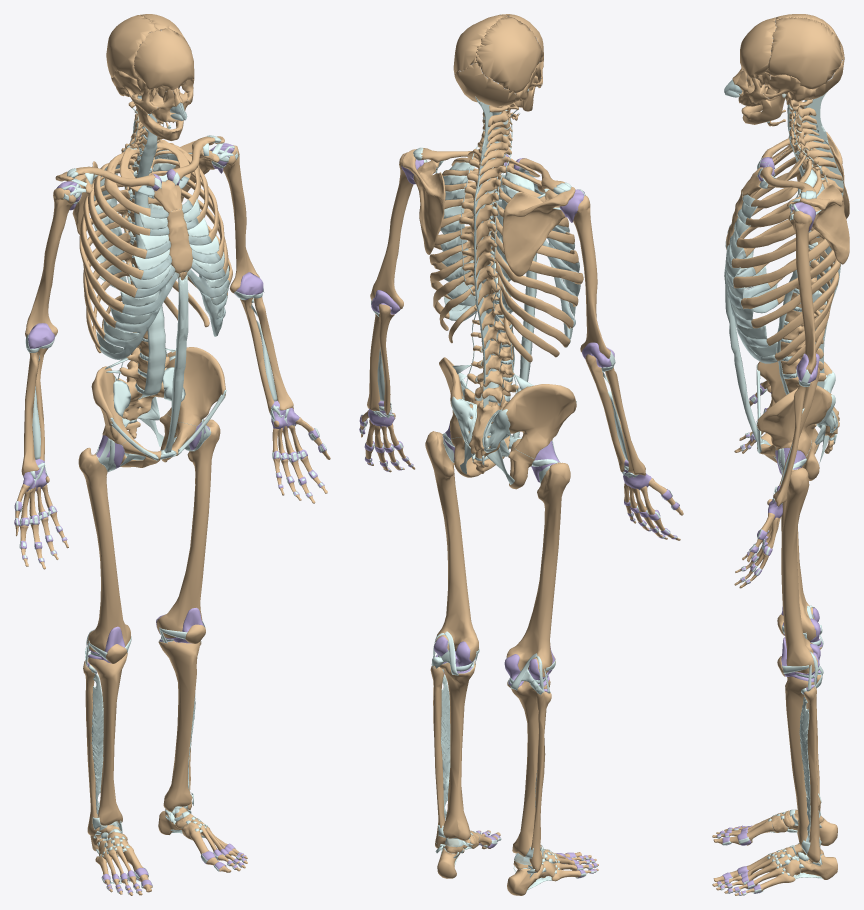
File: skeletal.glb
3 renders of one model, left to right at view 1: azimuth 30°, elevation 25°; view 2: azimuth 150°, elevation 25°; view 3: azimuth 270°, elevation 25°, orthographic. The views are drawn at different scales.
Parts seen in each view (by area): view 1: Bone component 00239 | anatomy_00239, Bone component 00237 | anatomy_00237, Bone component 00176 | anatomy_00176, Bone component 00165 | anatomy_00165, Bone component 00141 | anatomy_00141, Bone component 00164 | anatomy_00164, Ligament component 02849 | anatomy_02849, Bone component 00245 | anatomy_00245, Bone component 00169 | anatomy_00169, Bone component 00234 | anatomy_00234, Bone component 00244 | anatomy_00244, Ligament component 02374 | anatomy_02374 (+19 smaller); view 2: Bone component 00237 | anatomy_00237, Bone component 00239 | anatomy_00239, Bone component 00169 | anatomy_00169, Bone component 00152 | anatomy_00152, Bone component 00234 | anatomy_00234, Bone component 00165 | anatomy_00165, Bone component 00164 | anatomy_00164, Bone component 00178 | anatomy_00178, Bone component 00245 | anatomy_00245, Bone component 00244 | anatomy_00244, Bone component 00176 | anatomy_00176, Bone component 00134 | anatomy_00134 (+18 smaller); view 3: Bone component 00006 | anatomy_00006, Bone component 00237 | anatomy_00237, Bone component 00176 | anatomy_00176, Bone component 00165 | anatomy_00165, Bone component 00244 | anatomy_00244, Bone component 00178 | anatomy_00178, Bone component 00160 | anatomy_00160, Bone component 00141 | anatomy_00141, Ligament component 02374 | anatomy_02374, Bone component 00169 | anatomy_00169, Bone component 00177 | anatomy_00177, Bone component 00140 | anatomy_00140 (+29 smaller).
Part boxes in pixels (x1,y1,x2,y2): Bone component 00239 | anatomy_00239: (78, 447, 130, 652); Bone component 00237 | anatomy_00237: (156, 419, 220, 638); Bone component 00176 | anatomy_00176: (159, 347, 225, 462); Bone component 00165 | anatomy_00165: (158, 640, 200, 811); Bone component 00141 | anatomy_00141: (134, 28, 194, 90); Bone component 00164 | anatomy_00164: (88, 652, 127, 825); Ligament component 02849 | anatomy_02849: (134, 113, 165, 397); Bone component 00245 | anatomy_00245: (25, 187, 76, 337); Bone component 00169 | anatomy_00169: (91, 366, 161, 467); Bone component 00234 | anatomy_00234: (106, 15, 158, 79); Bone component 00244 | anatomy_00244: (223, 145, 259, 293); Ligament component 02374 | anatomy_02374: (164, 274, 188, 452); Bone component 00237 | anatomy_00237: (425, 431, 478, 661); Bone component 00239 | anatomy_00239: (506, 462, 570, 676); Bone component 00169 | anatomy_00169: (502, 384, 576, 489); Bone component 00152 | anatomy_00152: (502, 187, 575, 276); Bone component 00234 | anatomy_00234: (476, 16, 541, 93); Bone component 00165 | anatomy_00165: (439, 661, 475, 840); Bone component 00164 | anatomy_00164: (507, 680, 550, 856); Bone component 00178 | anatomy_00178: (401, 149, 445, 254); Bone component 00245 | anatomy_00245: (573, 195, 610, 358); Bone component 00244 | anatomy_00244: (370, 152, 413, 308); Bone component 00176 | anatomy_00176: (439, 357, 509, 477); Bone component 00134 | anatomy_00134: (454, 63, 516, 106); Bone component 00006 | anatomy_00006: (765, 17, 842, 89); Bone component 00237 | anatomy_00237: (781, 467, 817, 673); Bone component 00176 | anatomy_00176: (757, 385, 832, 480); Bone component 00165 | anatomy_00165: (785, 675, 821, 846); Bone component 00244 | anatomy_00244: (788, 209, 816, 374); Bone component 00178 | anatomy_00178: (787, 183, 849, 264); Bone component 00160 | anatomy_00160: (804, 684, 820, 862); Bone component 00141 | anatomy_00141: (740, 17, 776, 78); Ligament component 02374 | anatomy_02374: (724, 267, 762, 443); Bone component 00169 | anatomy_00169: (757, 352, 832, 453); Bone component 00177 | anatomy_00177: (773, 384, 806, 506); Bone component 00140 | anatomy_00140: (741, 249, 836, 308).
Size of the model in its own units: 10.69 by 27.1 by 3.99.
